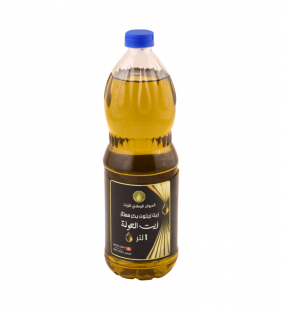OFFICE NATIONAL DE L'HUILE: (97, 25, 185, 285)
